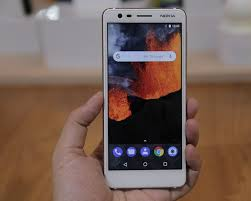nokia: (100, 7, 188, 191)
